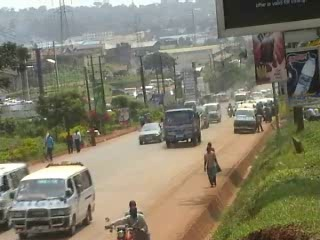Car: (135, 119, 167, 147)
Motorcycle: (103, 212, 154, 237), (226, 101, 235, 119)
